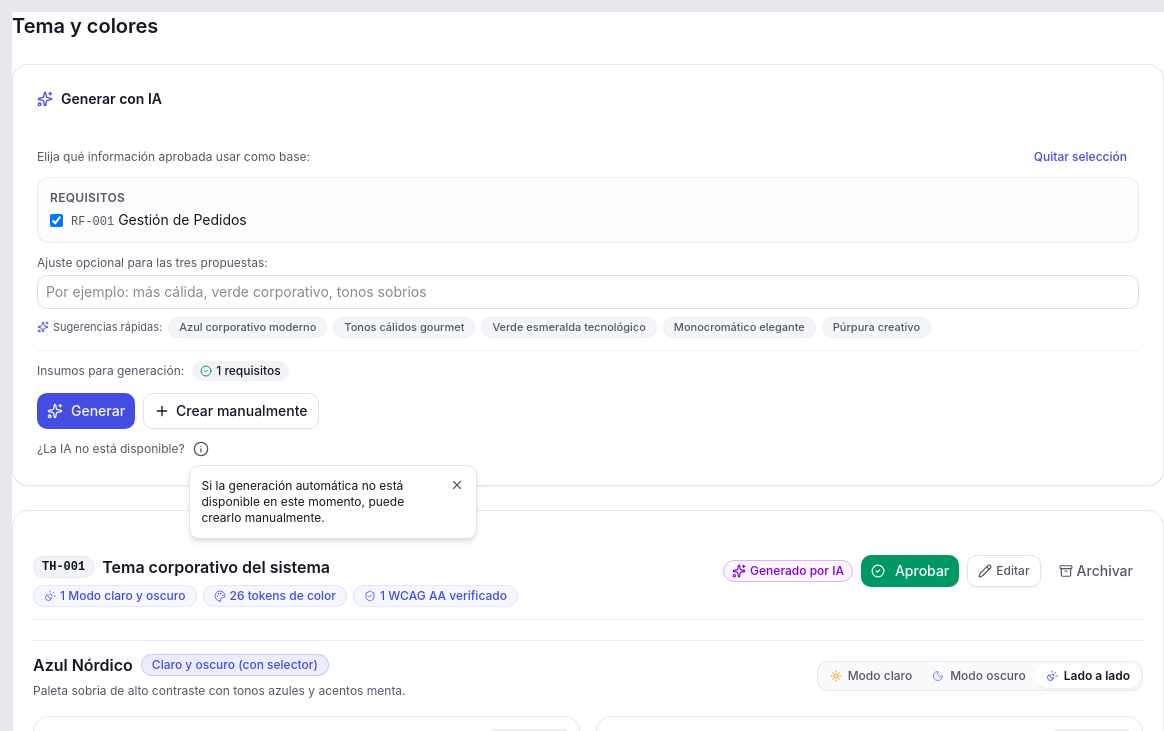
Scenario: DesignThemePage › provides quick style suggestions for AI generation
The width and height of the screenshot is (1164, 731).
expect the heading "Tema y colores" is shown: met, box [12,14,158,38]
Note: Click quick suggestion chip "Tonos cálidos gourmet"
Click the button "Tonos cálidos gourmet".
click(404, 327)  # box [333,317,475,338]
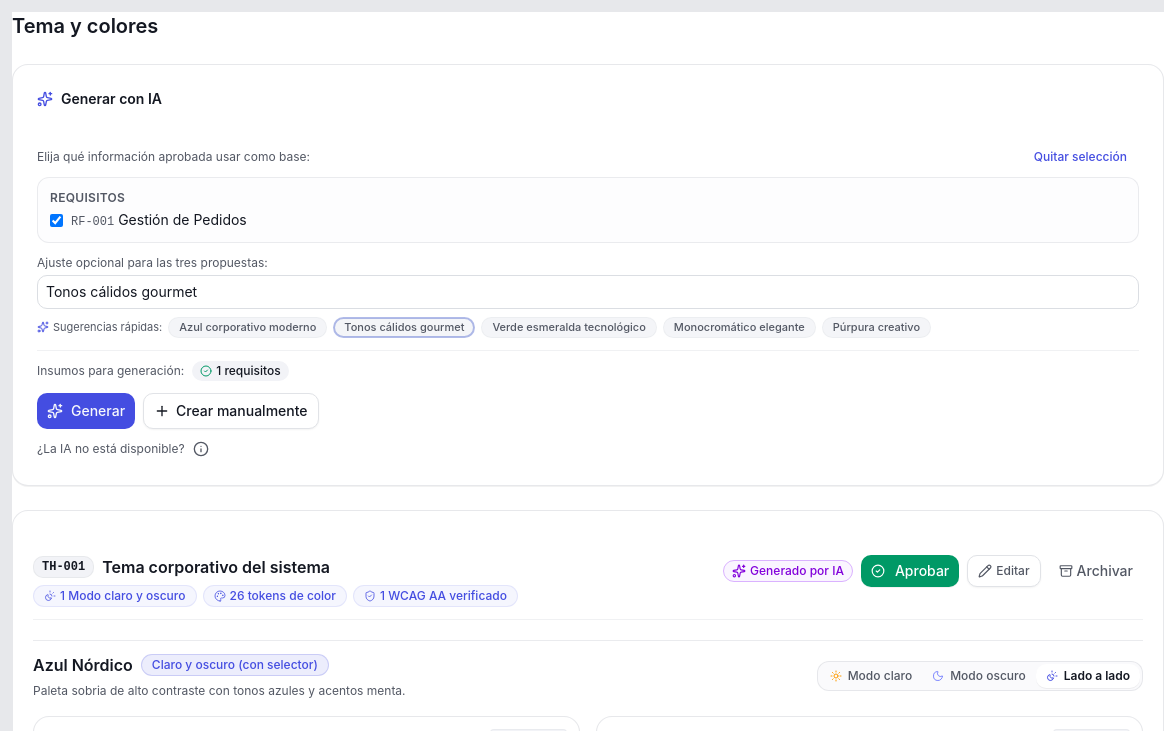
expect the field with placeholder "Por ejemplo: más cálida, verde corporativo, tonos sobrios" holds "Tonos cálidos gourmet": met, box [37,275,1139,309]
